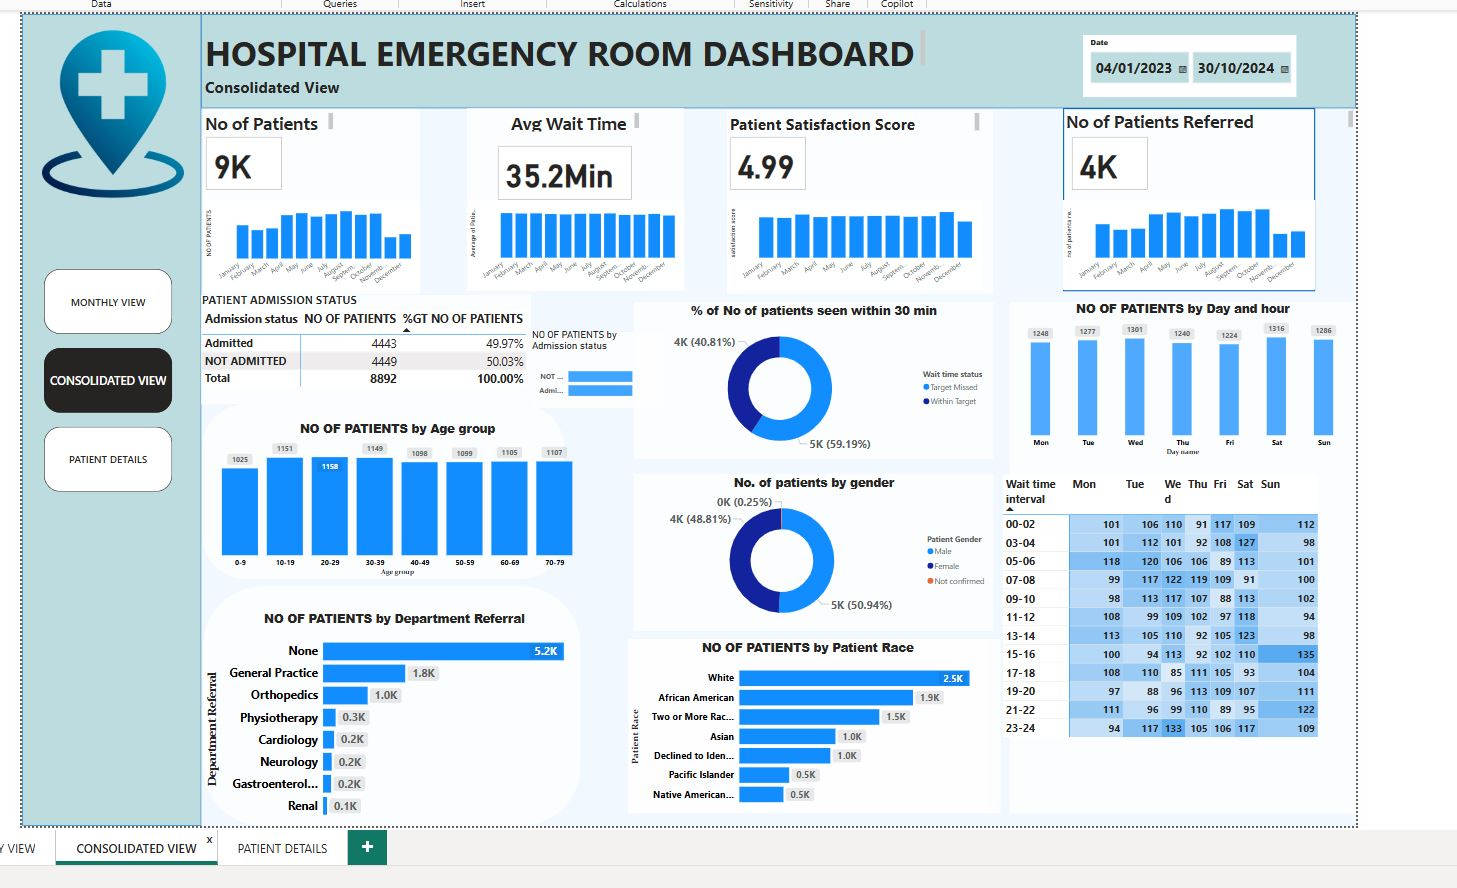

The page's visual inventory and layout, read from the dashboard file:
{"tool":"powerbi","page":{"name":"CONSOLIDATED VIEW","canvas":[2300,1400],"ordinal":1},"visuals":[{"type":"shape","box":[312.1,162.1,374.1,320.7],"z":0},{"type":"shape","box":[0,0,309.1,1400],"z":1000},{"type":"shape","box":[309.3,0,1990.7,162.5],"z":2000},{"type":"textbox","box":[310.3,22.4,1251.7,79.3],"z":3000},{"type":"cardVisual","fields":{"Data":["Hospital ER_Data.no of patients"]},"box":[312.1,206.9,141.4,101.7],"z":4000},{"type":"textbox","box":[310.3,165.5,231,43.1],"z":5000},{"type":"slicer","fields":{"Values":["Date Table.Date"]},"box":[1828.5,36.7,368.5,106.5],"z":7000},{"type":"textbox","box":[310.3,101.7,281,84.5],"z":8000},{"type":"shape","box":[1215.5,165.5,458.6,317.2],"z":10000},{"type":"cardVisual","fields":{"Data":["Hospital ER_Data.satisfaction score"]},"box":[1215.5,206.9,141.4,101.7],"z":11000},{"type":"textbox","box":[1215.5,165.5,439.7,43.1],"z":12000},{"type":"shape","box":[766.7,162.4,373.7,316.1],"z":13000},{"type":"textbox","box":[838.3,165.9,230.5,41.9],"z":14000},{"type":"cardVisual","fields":{"Data":["Hospital ER_Data.Avg wait time"]},"box":[815.6,221.8,241,103],"z":15000},{"type":"shape","box":[1795.3,162.4,434.9,316.1],"z":16000},{"type":"cardVisual","fields":{"Data":["Hospital ER_Data.no of patients referred"]},"box":[1805.2,206.9,141.4,101.7],"z":17000},{"type":"textbox","box":[1794.8,162.1,505.2,43.1],"z":18000},{"type":"columnChart","fields":{"Y":["Hospital ER_Data.NO OF PATIENTS"],"Category":["Date Table.Date.Variation.Date Hierarchy.Month"]},"box":[312.1,320.7,374.1,156.9],"z":19000},{"type":"columnChart","fields":{"Y":["Hospital ER_Data.satisfaction score"],"Category":["Date Table.Date.Variation.Date Hierarchy.Month"]},"box":[1215.5,321.3,440.1,155.4],"z":20000},{"type":"columnChart","fields":{"Y":["Avg(Hospital ER_Data.Patient Waittime)"],"Category":["Date Table.Date.Variation.Date Hierarchy.Month"]},"box":[766.7,321.3,373.7,155.4],"z":21000},{"type":"shape","box":[309.1,483.8,569.3,188.6],"z":22000},{"type":"columnChart","fields":{"Category":["Date Table.Date.Variation.Date Hierarchy.Month"],"Y":["Hospital ER_Data.no of patients referred"]},"box":[1795.3,321.3,434.9,155.4],"z":23000},{"type":"shape","box":[878.4,548.4,230.5,131],"z":24000},{"type":"pivotTable","title":"PATIENT ADMISSION STATUS","fields":{"Rows":["Hospital ER_Data.Admission status"],"Values":["Hospital ER_Data.NO OF PATIENTS1","Hospital ER_Data.NO OF PATIENTS"]},"box":[305.6,478.5,569.3,199.1],"z":25000},{"type":"barChart","fields":{"Category":["Hospital ER_Data.Admission status"],"Y":["Hospital ER_Data.NO OF PATIENTS"]},"box":[874.9,543.1,221.8,143.2],"z":26000},{"type":"shape","box":[310.9,672.4,625.2,302.1],"z":27000},{"type":"clusteredColumnChart","fields":{"Y":["Hospital ER_Data.NO OF PATIENTS"],"Category":["Hospital ER_Data.Age group"]},"box":[309.1,700.3,677.6,274.2],"z":28000},{"type":"shape","box":[312.6,986.7,651.4,413.9],"z":29000},{"type":"clusteredBarChart","fields":{"Category":["Hospital ER_Data.Department Referral"],"Y":["Hospital ER_Data.NO OF PATIENTS"]},"box":[312.6,1026.9,660.1,373.7],"z":30000},{"type":"shape","box":[1054.8,496,620,270.7],"z":31000},{"type":"donutChart","title":"% of No of patients seen within 30 min","fields":{"Category":["Hospital ER_Data.Wait time status"],"Y":["Hospital ER_Data.NO OF PATIENTS"]},"box":[1054.8,496,620,270.7],"z":32000},{"type":"shape","box":[1044.3,1077.5,620,300.4],"z":33000},{"type":"shape","box":[1054.8,792.9,620,270.7],"z":34000},{"type":"donutChart","title":"No. of patients by gender","fields":{"Category":["Hospital ER_Data.Patient Gender"],"Y":["Hospital ER_Data.NO OF PATIENTS"]},"box":[1054.8,792.9,620,270.7],"z":35000},{"type":"shape","box":[1046.1,1077.5,640.9,300.4],"z":36000},{"type":"clusteredBarChart","fields":{"Y":["Hospital ER_Data.NO OF PATIENTS"],"Category":["Hospital ER_Data.Patient Race"]},"box":[1044.3,1077.5,620,300.4],"z":37000},{"type":"shape","box":[1702.7,496,597.3,881.9],"z":38000},{"type":"pivotTable","fields":{"Rows":["Hospital ER_Data.Wait time interval"],"Columns":["Date Table.Day name"],"Values":["Hospital ER_Data.NO OF PATIENTS"]},"box":[1687,789.4,613,527.4],"z":39000},{"type":"columnChart","title":"NO OF PATIENTS by Day and hour","fields":{"Y":["Hospital ER_Data.NO OF PATIENTS"],"Category":["Date Table.Day name"]},"box":[1701,492.5,599,274.2],"z":40000},{"type":"image","box":[7,22.7,300.4,300.4],"z":41000},{"type":"pageNavigator","box":[38.4,440.1,221.8,384.2],"z":41002}]}

Visuals, with their boxes on the page's 2300x1400 design canvas (x1, y1, x2, y2). These are canvas units, not pixel positions in the 1457x888 screenshot, which may show the page scaled, cropped or inside an application window:
shape: [x1=312, y1=162, x2=686, y2=483]
shape: [x1=0, y1=0, x2=309, y2=1400]
shape: [x1=309, y1=0, x2=2300, y2=162]
textbox: [x1=310, y1=22, x2=1562, y2=102]
cardVisual - Hospital ER_Data.no of patients: [x1=312, y1=207, x2=454, y2=309]
textbox: [x1=310, y1=166, x2=541, y2=209]
slicer - Date Table.Date: [x1=1828, y1=37, x2=2197, y2=143]
textbox: [x1=310, y1=102, x2=591, y2=186]
shape: [x1=1216, y1=166, x2=1674, y2=483]
cardVisual - Hospital ER_Data.satisfaction score: [x1=1216, y1=207, x2=1357, y2=309]
textbox: [x1=1216, y1=166, x2=1655, y2=209]
shape: [x1=767, y1=162, x2=1140, y2=478]
textbox: [x1=838, y1=166, x2=1069, y2=208]
cardVisual - Hospital ER_Data.Avg wait time: [x1=816, y1=222, x2=1057, y2=325]
shape: [x1=1795, y1=162, x2=2230, y2=478]
cardVisual - Hospital ER_Data.no of patients referred: [x1=1805, y1=207, x2=1947, y2=309]
textbox: [x1=1795, y1=162, x2=2300, y2=205]
columnChart - Hospital ER_Data.NO OF PATIENTS x Date Table.Date.Variation.Date Hierarchy.Month: [x1=312, y1=321, x2=686, y2=478]
columnChart - Hospital ER_Data.satisfaction score x Date Table.Date.Variation.Date Hierarchy.Month: [x1=1216, y1=321, x2=1656, y2=477]
columnChart - Avg(Hospital ER_Data.Patient Waittime) x Date Table.Date.Variation.Date Hierarchy.Month: [x1=767, y1=321, x2=1140, y2=477]
shape: [x1=309, y1=484, x2=878, y2=672]
columnChart - Date Table.Date.Variation.Date Hierarchy.Month x Hospital ER_Data.no of patients referred: [x1=1795, y1=321, x2=2230, y2=477]
shape: [x1=878, y1=548, x2=1109, y2=679]
"PATIENT ADMISSION STATUS" pivotTable: [x1=306, y1=478, x2=875, y2=678]
barChart - Hospital ER_Data.Admission status x Hospital ER_Data.NO OF PATIENTS: [x1=875, y1=543, x2=1097, y2=686]
shape: [x1=311, y1=672, x2=936, y2=974]
clusteredColumnChart - Hospital ER_Data.NO OF PATIENTS x Hospital ER_Data.Age group: [x1=309, y1=700, x2=987, y2=974]
shape: [x1=313, y1=987, x2=964, y2=1401]
clusteredBarChart - Hospital ER_Data.Department Referral x Hospital ER_Data.NO OF PATIENTS: [x1=313, y1=1027, x2=973, y2=1401]
shape: [x1=1055, y1=496, x2=1675, y2=767]
"% of No of patients seen within 30 min" donutChart: [x1=1055, y1=496, x2=1675, y2=767]
shape: [x1=1044, y1=1078, x2=1664, y2=1378]
shape: [x1=1055, y1=793, x2=1675, y2=1064]
"No. of patients by gender" donutChart: [x1=1055, y1=793, x2=1675, y2=1064]
shape: [x1=1046, y1=1078, x2=1687, y2=1378]
clusteredBarChart - Hospital ER_Data.NO OF PATIENTS x Hospital ER_Data.Patient Race: [x1=1044, y1=1078, x2=1664, y2=1378]
shape: [x1=1703, y1=496, x2=2300, y2=1378]
pivotTable - Hospital ER_Data.Wait time interval x Date Table.Day name: [x1=1687, y1=789, x2=2300, y2=1317]
"NO OF PATIENTS by Day and hour" columnChart: [x1=1701, y1=492, x2=2300, y2=767]
image: [x1=7, y1=23, x2=307, y2=323]
pageNavigator: [x1=38, y1=440, x2=260, y2=824]
